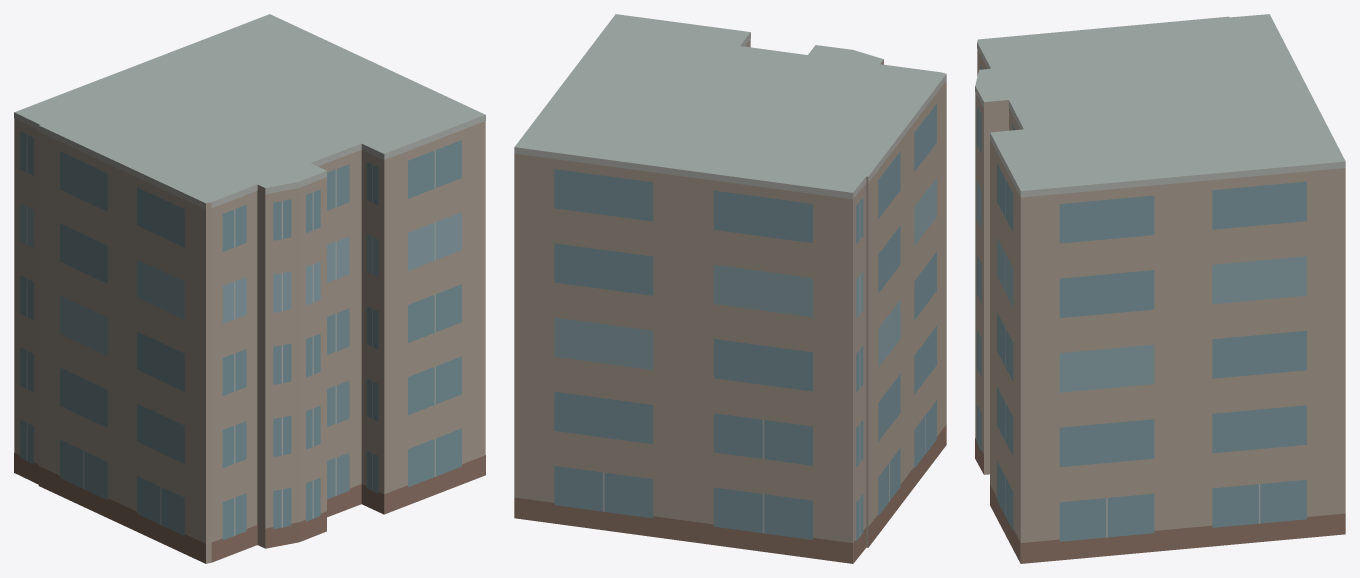
File: survey-upis-32621072.glb
3 views of the same model, side by side, from view 1: azimuth 30°, elevation 25°; view 2: azimuth 150°, elevation 25°; view 3: azimuth 270°, elevation 25° (orthographic). The views are drawn at different scales.
Parts seen in each view (by area): view 1: survey-upis-32621072.tmp; view 2: survey-upis-32621072.tmp; view 3: survey-upis-32621072.tmp.
Part boxes in pixels (bbox=[...]): survey-upis-32621072.tmp: bbox=[14, 14, 485, 563]; survey-upis-32621072.tmp: bbox=[514, 14, 946, 563]; survey-upis-32621072.tmp: bbox=[975, 14, 1345, 563].
Bounding box in the file's own units: 14.38 × 14.1 × 12.72.
